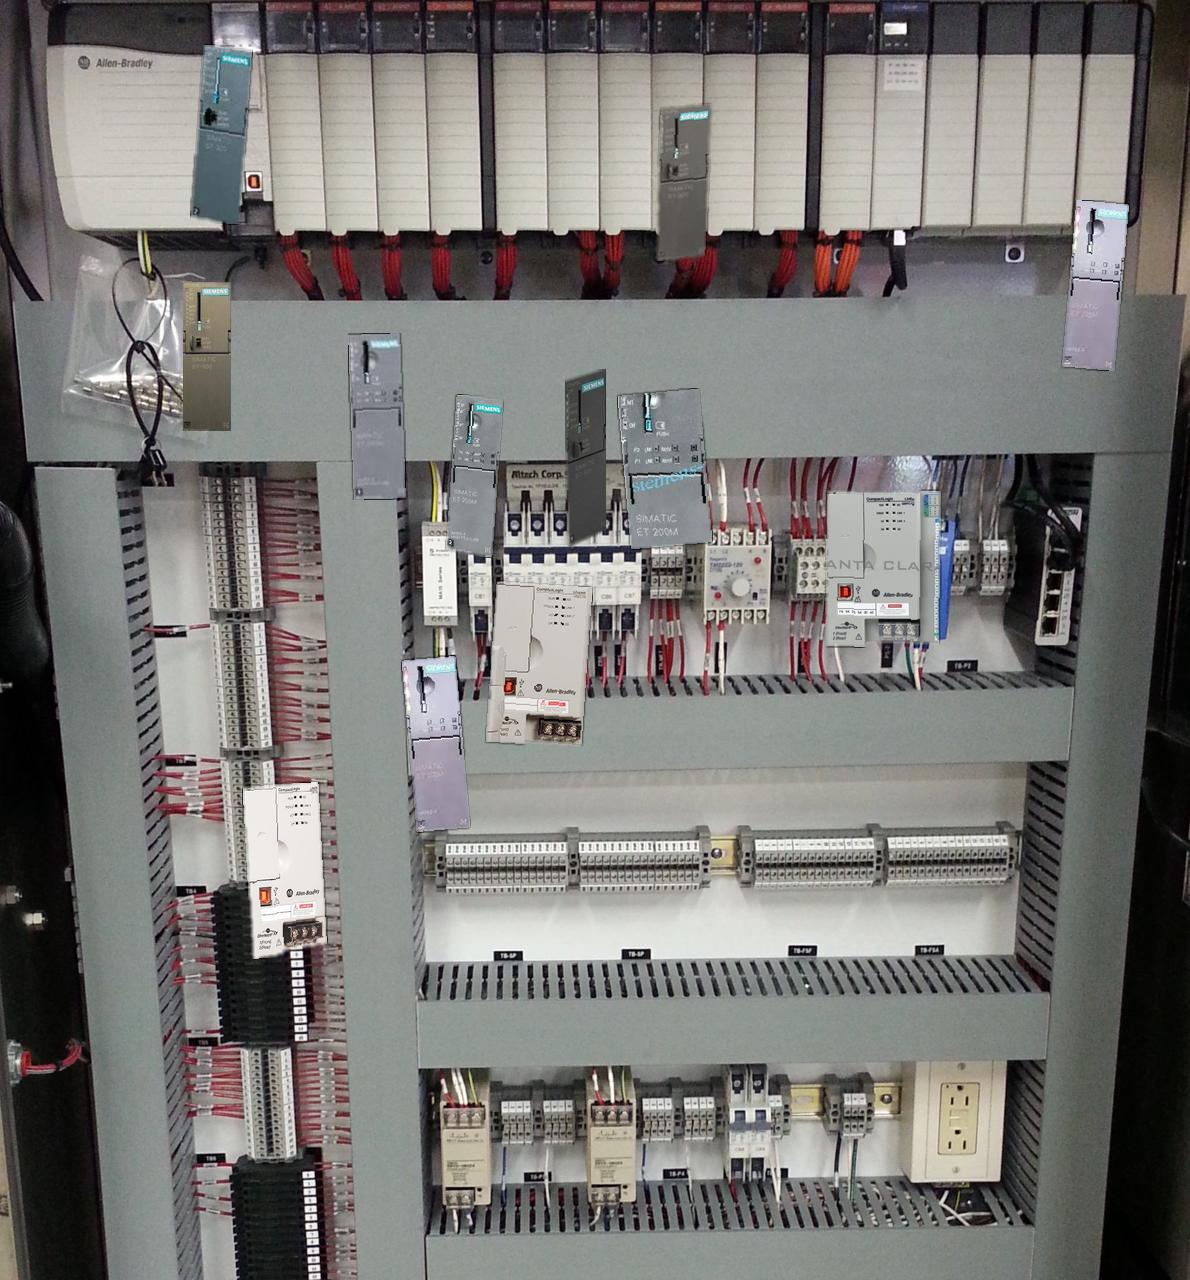AllenBradley: (827, 491, 939, 646), (487, 582, 591, 745), (243, 783, 325, 958)
Siemens: (191, 45, 251, 222), (657, 104, 710, 260), (565, 369, 605, 546), (183, 282, 230, 430)
